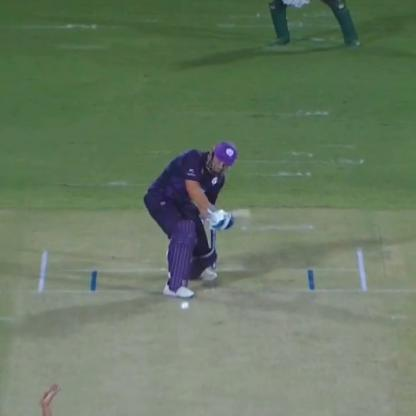ball: (178, 301, 192, 312)
bat: (209, 201, 255, 230)
pitch: (0, 253, 415, 416)
